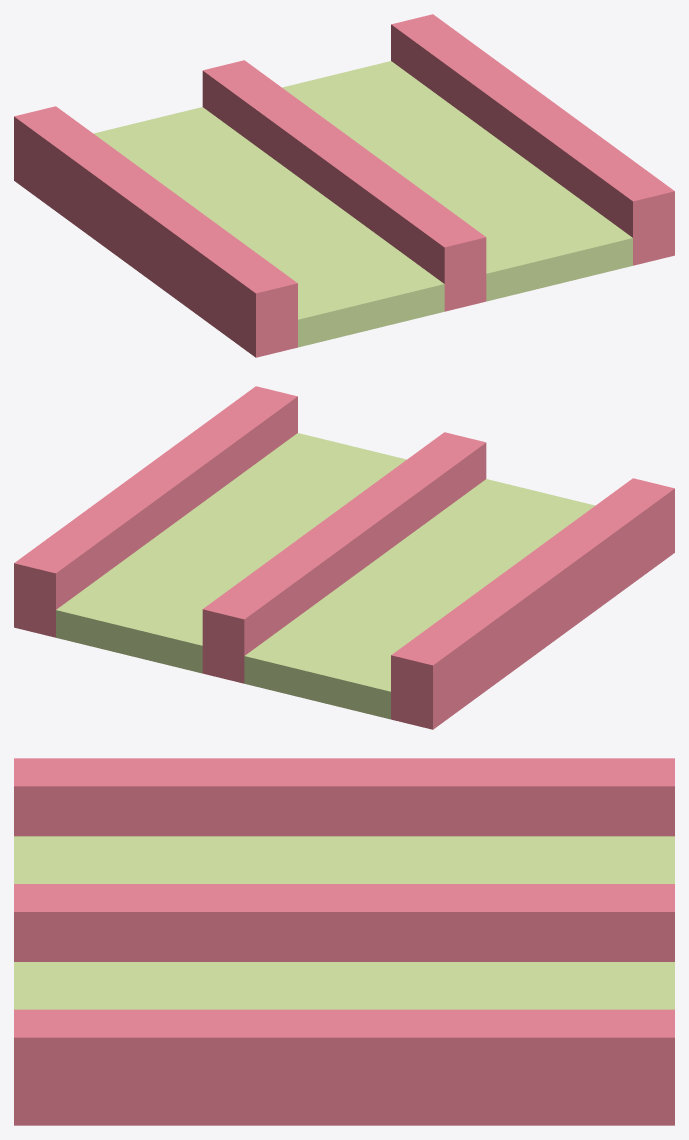
Rendered from split.fbx.
3 views of the same model, one above another, from view 1: azimuth 30°, elevation 25°; view 2: azimuth 150°, elevation 25°; view 3: azimuth 270°, elevation 25° (orthographic). The views are drawn at different scales.
Parts seen in each view (by area): view 1: split; view 2: split; view 3: split.
Part boxes in pixels (<box>): split: <box>14,14,674,357</box>; split: <box>14,386,674,729</box>; split: <box>14,758,674,1125</box>.
Size of the model in its own units: 99.99 by 14.67 by 99.99.
